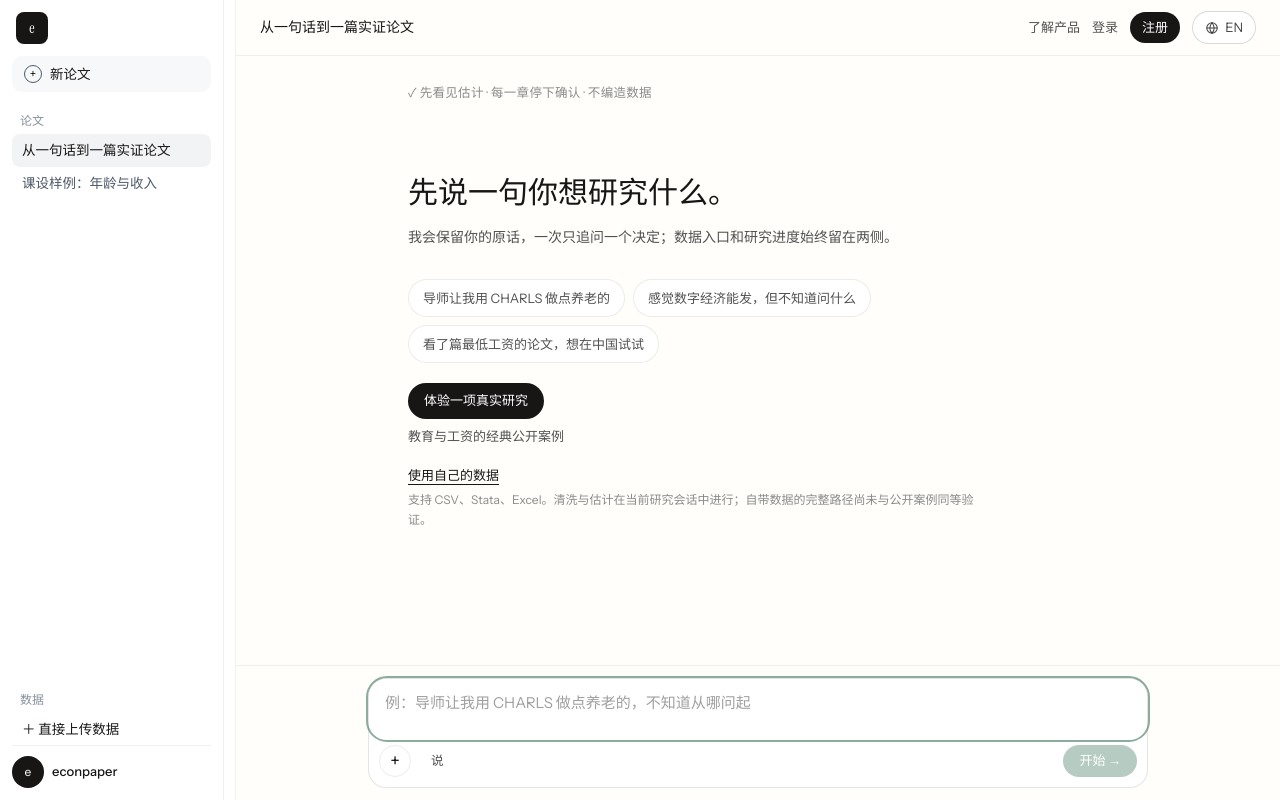
Test case: App 三栏布局 › C5 无会话工作台点「再看一次产品页」能看 GuidePage，且能回到工作台不丢方向
In the text box with test id "desk-paper": (758, 709) [369,679,1147,739], type "导师让我用 CHARLS 做点养老的"
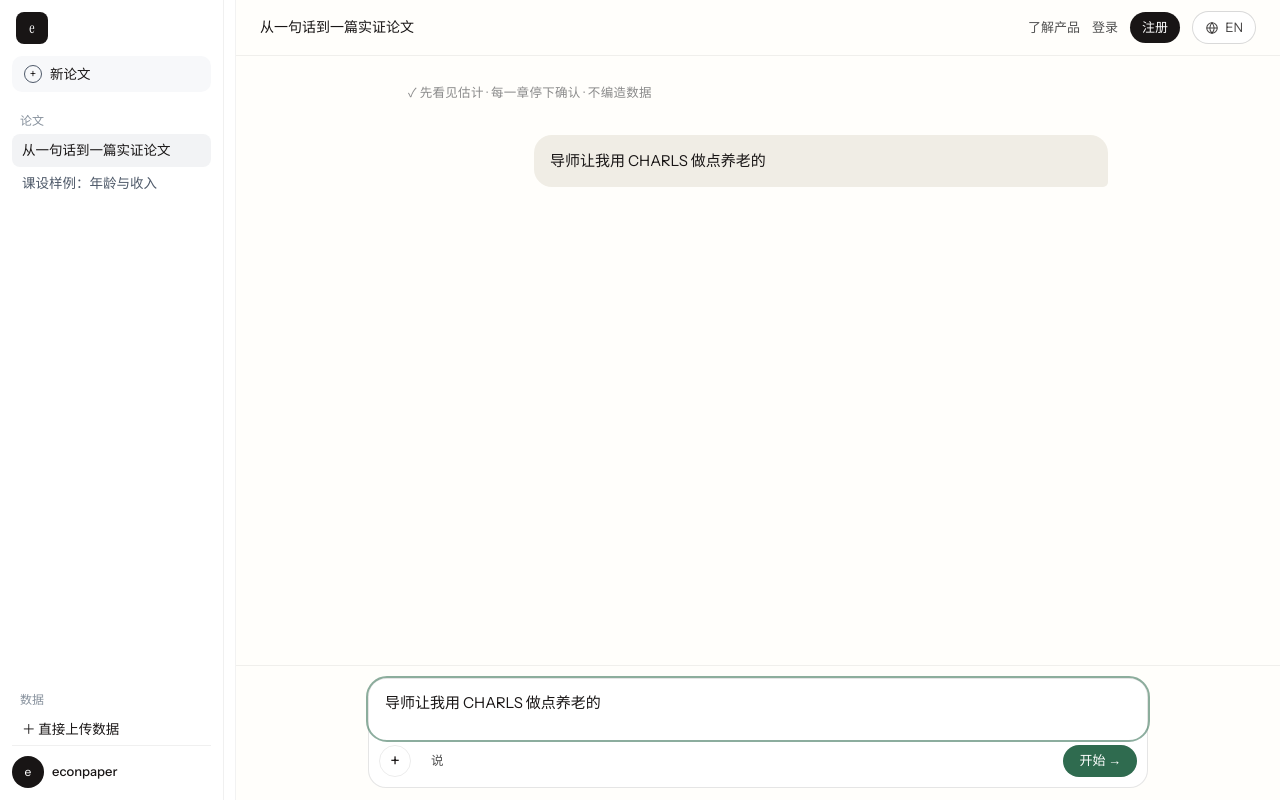
Click the button with test id "desk-shape-btn": (1100, 761) [1063,745,1137,777]
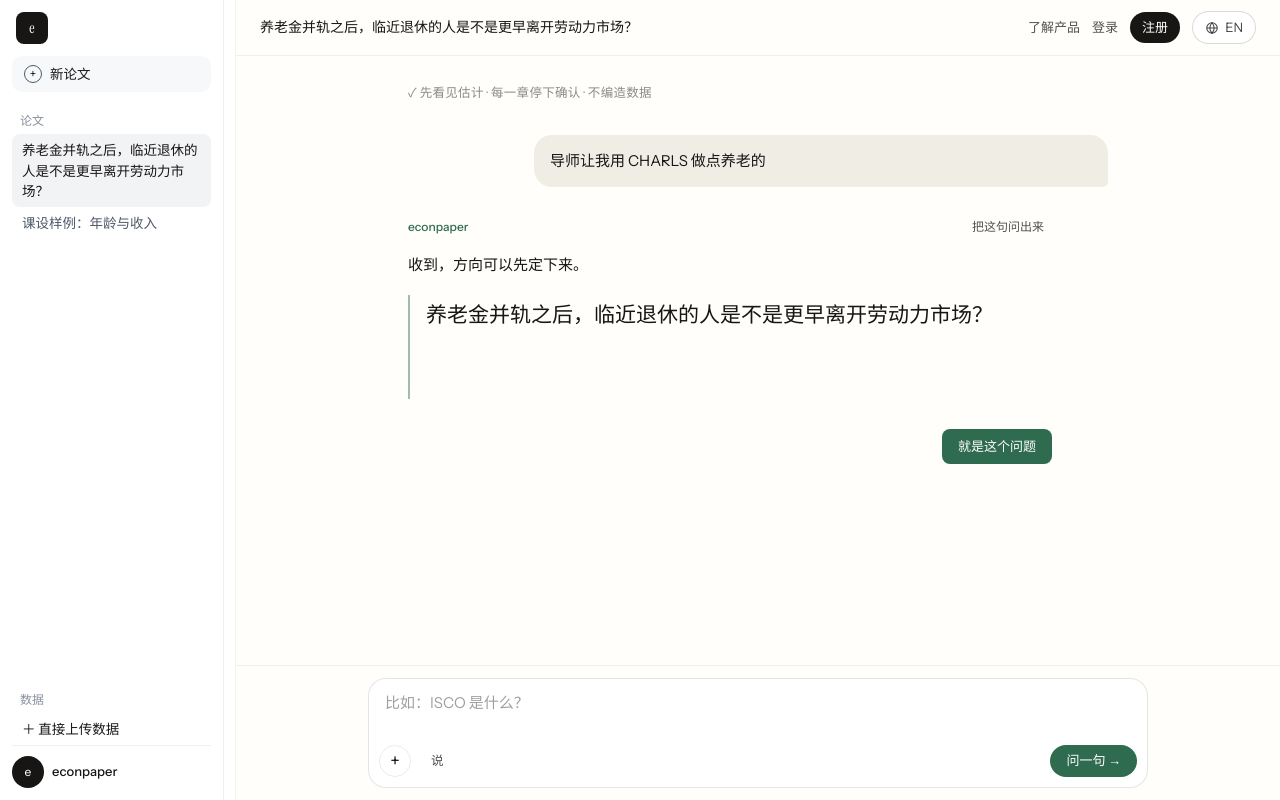
Click the button with test id "desk-confirm-btn": (997, 447) [942,429,1052,464]
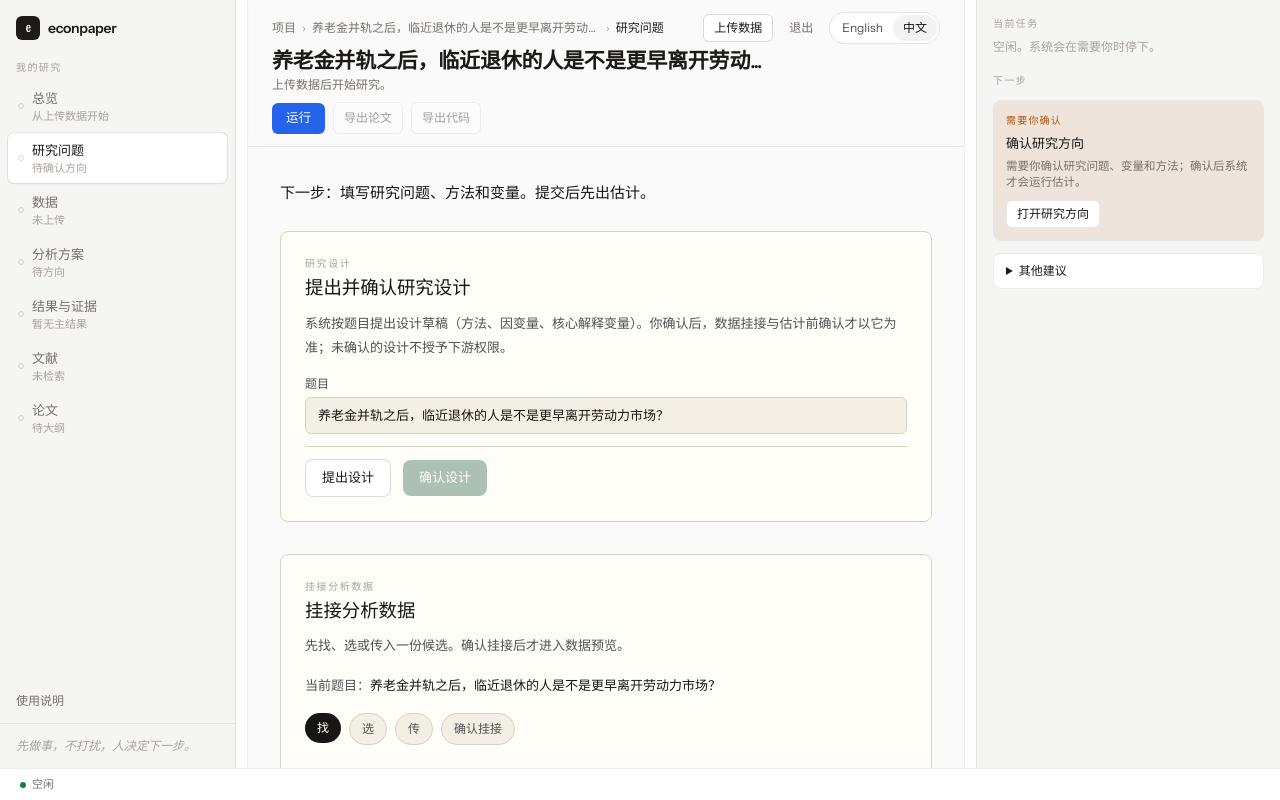
Result: the element with test id "desk-columns" is shown
Result: the button with test id "open-guide-btn" is shown
Click the button with test id "open-guide-btn": (40, 701) [16,693,64,709]
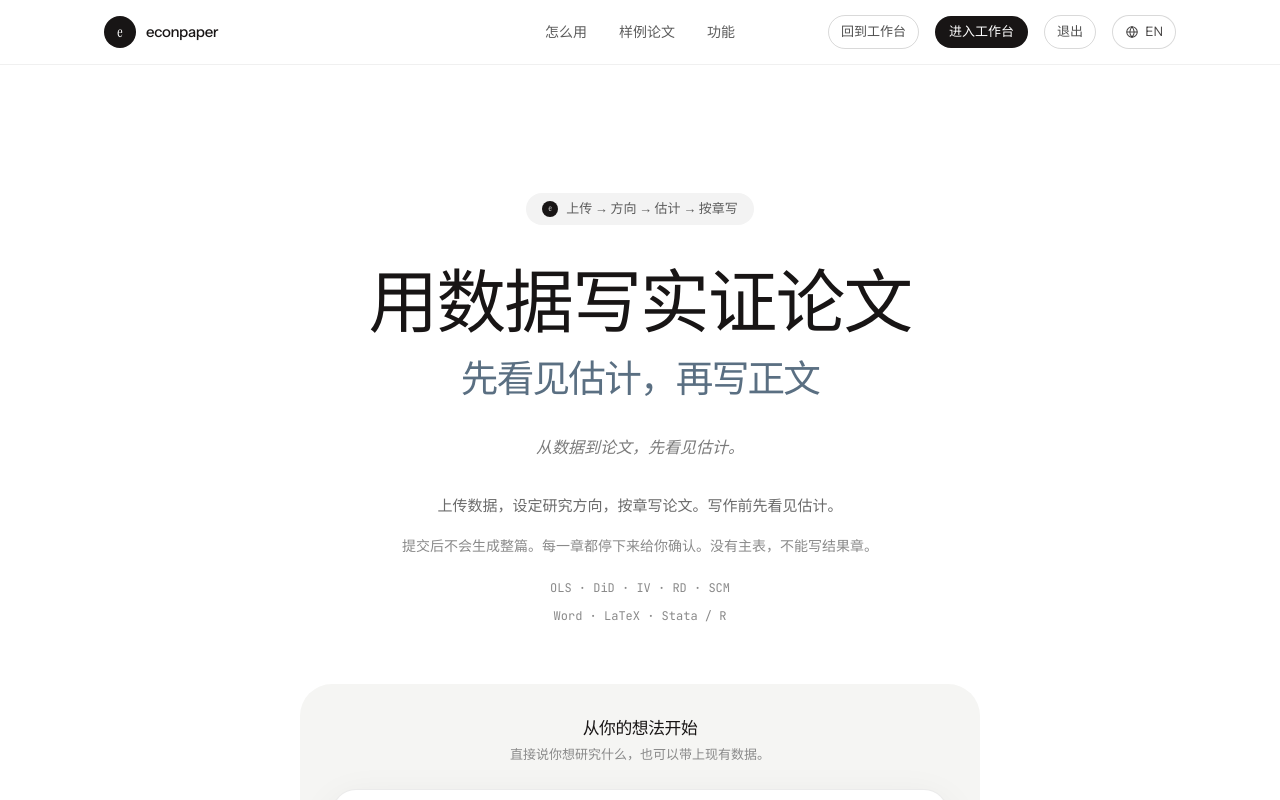
Click the button with test id "guide-back-desk": (874, 32) [828,15,919,49]
(page scrolled)
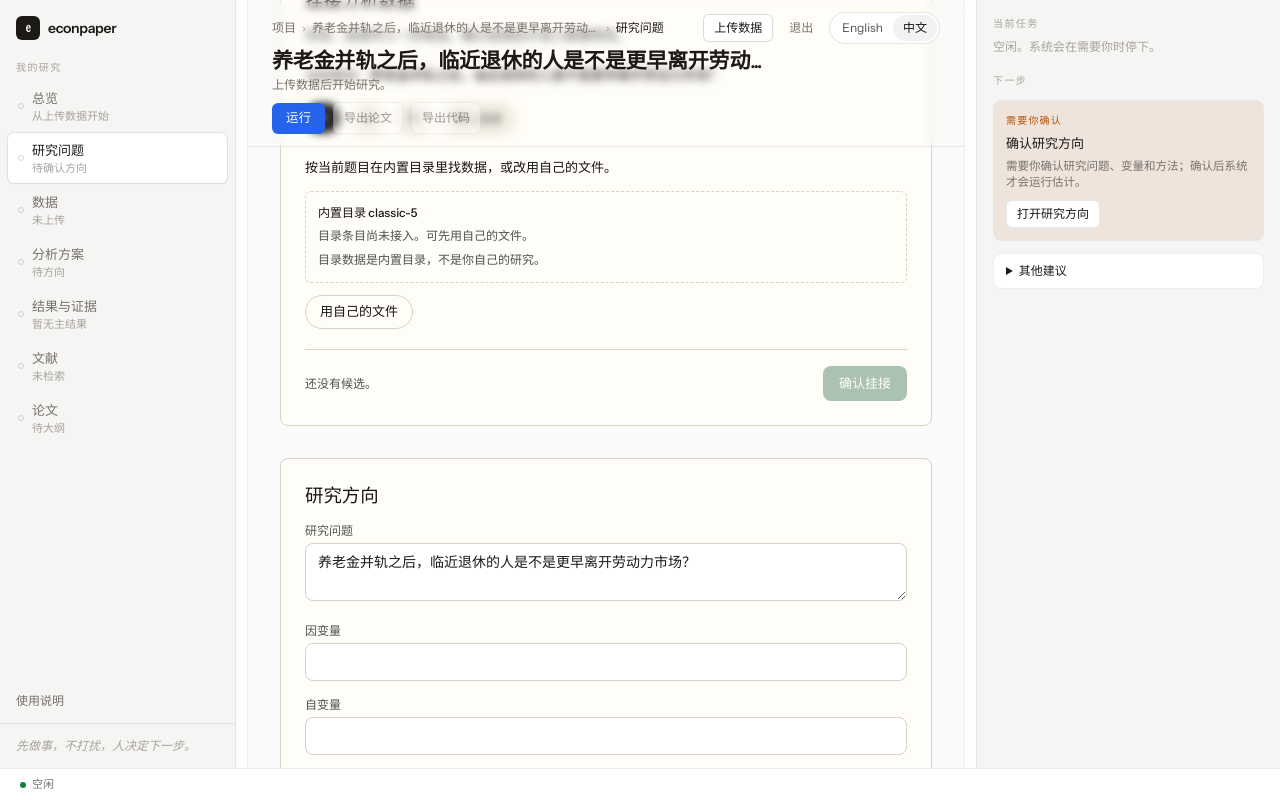
Result: the element with test id "desk-columns" is shown
Result: the text box labelled "研究问题" holds "养老金并轨之后，临近退休的人是不是更早离开劳动力市场？" at [305,543,907,601]
Result: the element with test id "attach-panel" is shown at [280,0,932,426]
